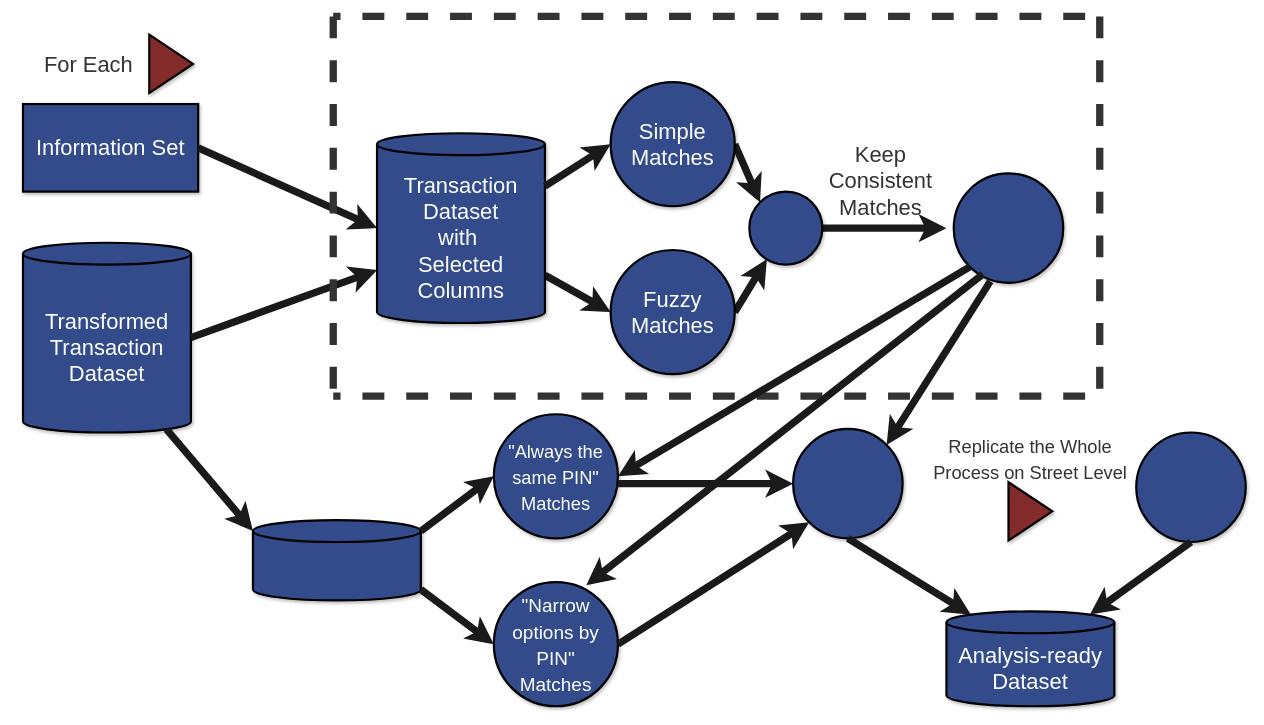
Some shapes in this 1264 by 725 pixel diagram are drawn without their labels. Here are the shapes that lost their labels. From the top down, the centre of each, then its label:
At point (1008, 229): "Unique pairs".
At point (848, 484): "Matches on House Level".
At point (1191, 488): "Matches on Street Level".
At point (337, 561): "Pin Numbers".
